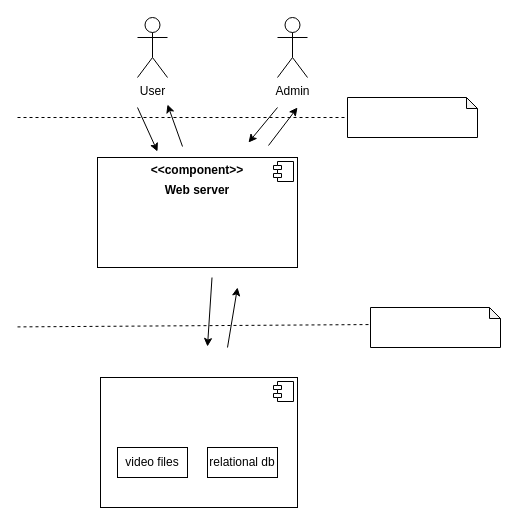
This 518x525 diagram has some shape labels left out. Here are the shapes that lost their labels. From the top down, the box of each, then its label:
(346, 96, 478, 138): <<critical>> firewall
(370, 306, 500, 348): <<high>> firewall
(100, 376, 298, 508): <<component>> Database server
